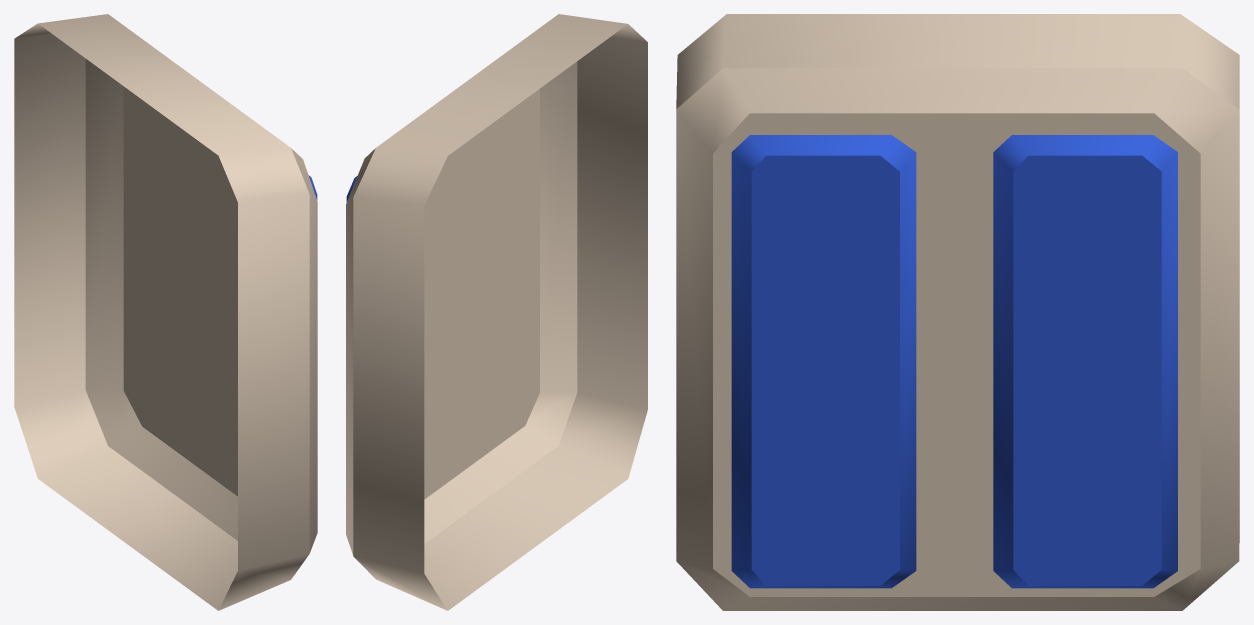
Rendered from Module_Ss_ass_stru2.FBX.
The picture shows the model from 3 angles, left to right: view 1: azimuth 30°, elevation 25°; view 2: azimuth 150°, elevation 25°; view 3: azimuth 270°, elevation 25°; orthographic projection. The views are drawn at different scales.
Visible parts, largest first — view 1: Module_Ss_ass_stru2; view 2: Module_Ss_ass_stru2; view 3: Module_Ss_ass_stru2.
Part boxes in pixels (x1,y1,x2,y2): Module_Ss_ass_stru2: (14, 14, 317, 610); Module_Ss_ass_stru2: (346, 14, 647, 610); Module_Ss_ass_stru2: (676, 14, 1239, 610).
Size of the model in its own units: 4.95 by 19.8 by 17.68.
